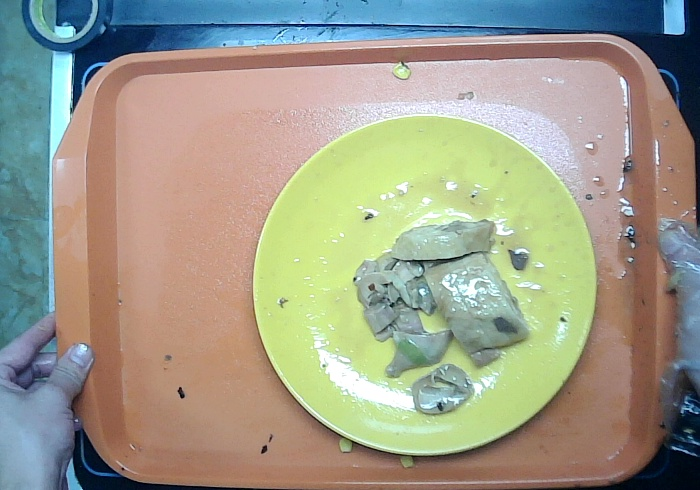HZYJPL-Huang_Se_Yuan_Pan: (247, 106, 600, 464)
